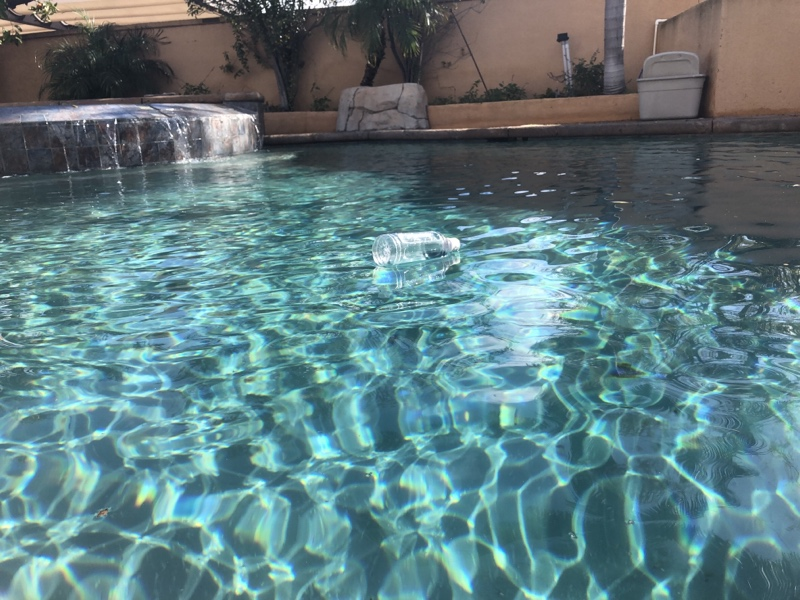Plastic Bottle: (367, 227, 464, 267)
